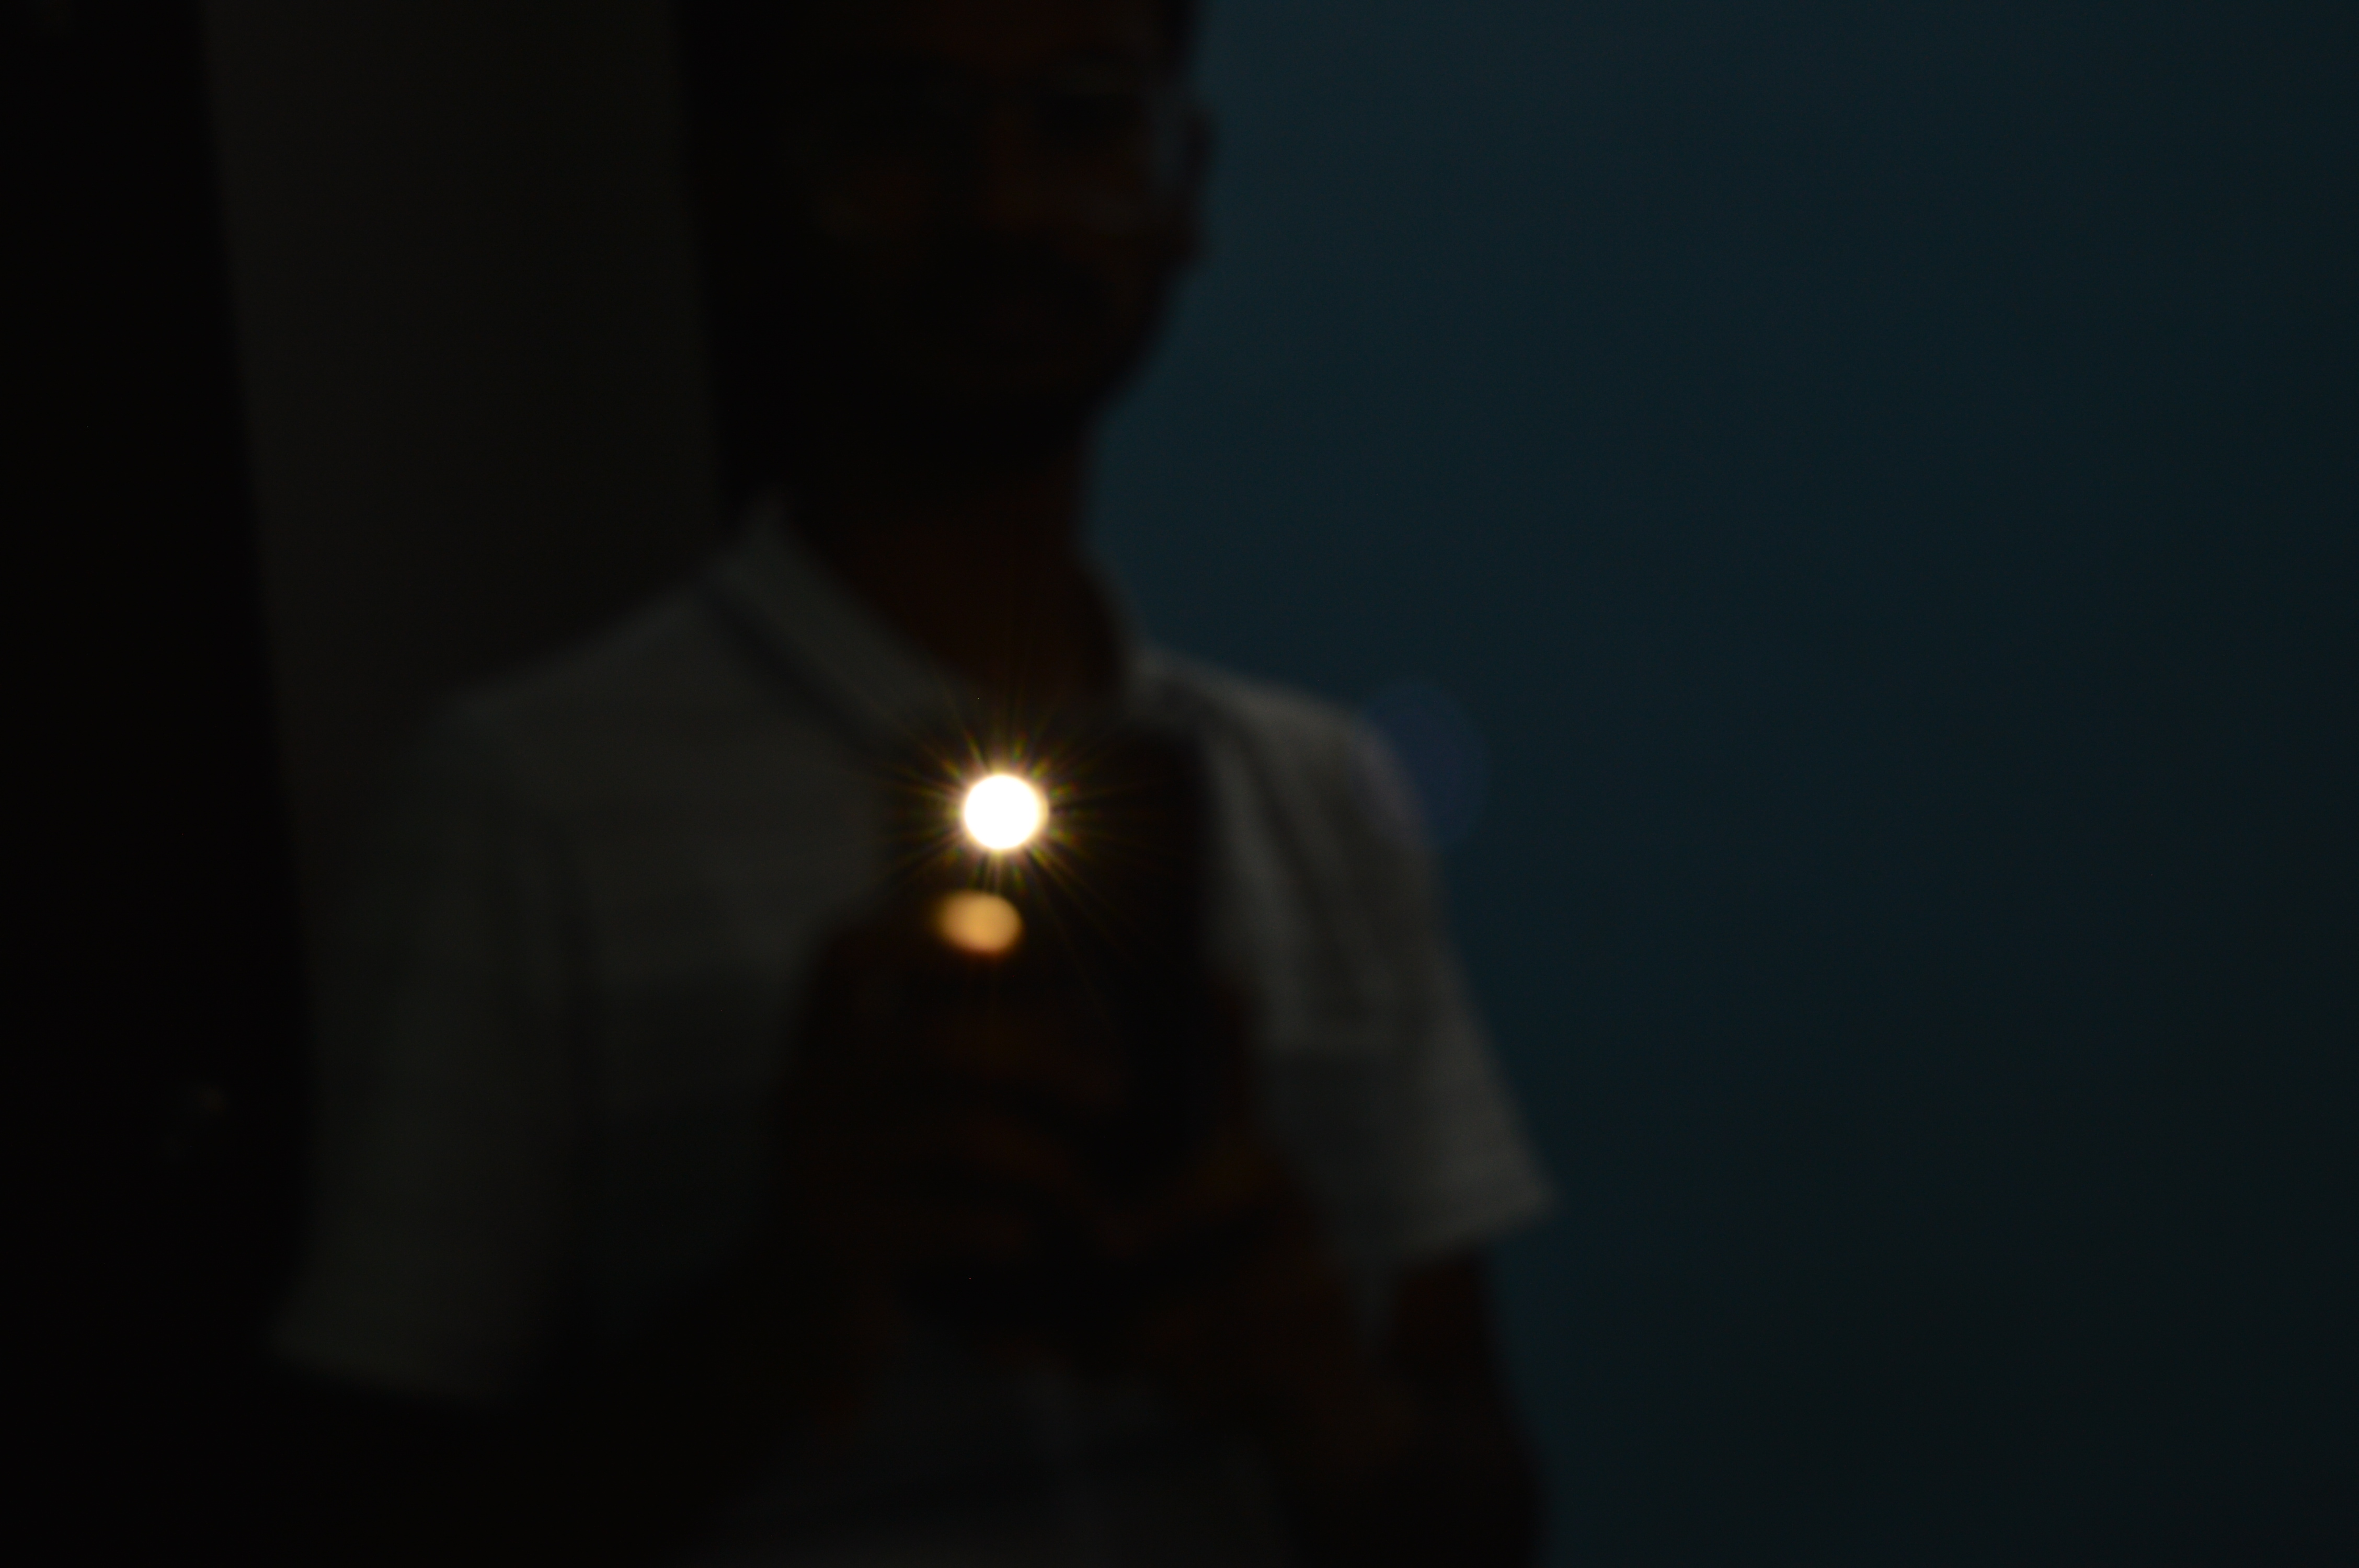Glare: (948, 766, 1057, 852)
